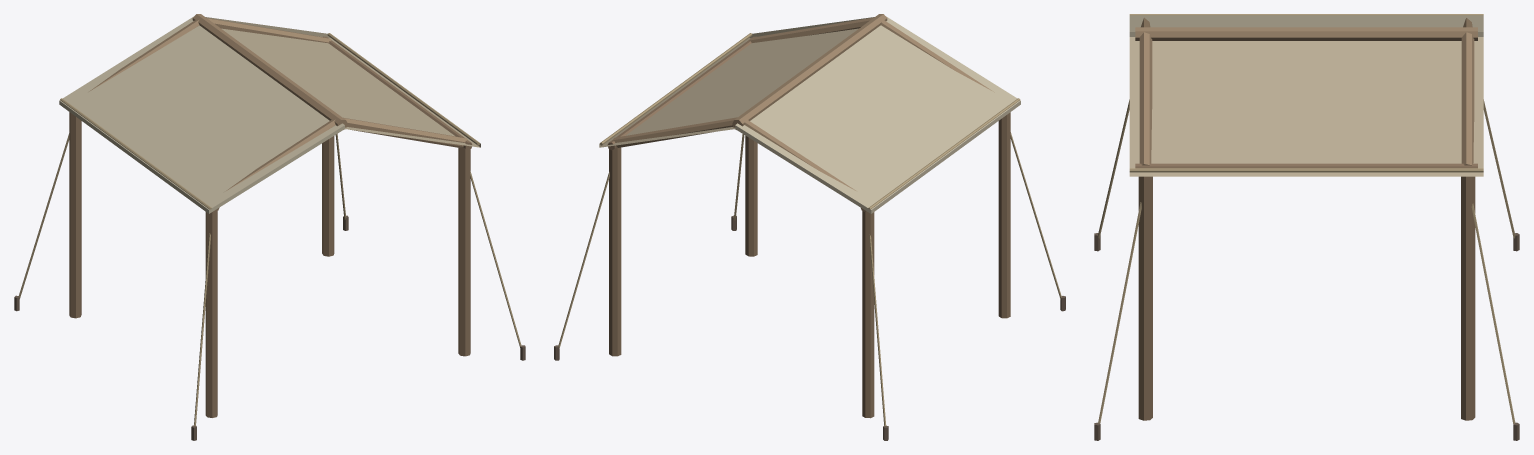
File: portable_canopy.glb
3 renders of one model, left to right at view 1: azimuth 30°, elevation 25°; view 2: azimuth 150°, elevation 25°; view 3: azimuth 270°, elevation 25°, orthographic. The views are drawn at different scales.
Visible parts, largest first — view 1: canvas_panel, canvas_panel_1, upright_3, upright, upright_1, ridge, upright_2, roof_rafter_right_1, roof_rafter_right, eave_1, canvas_hem_1, roof_rafter_left_1 (+3 smaller); view 2: canvas_panel, canvas_panel_1, upright_2, upright_1, upright, ridge, upright_3, roof_rafter_right, roof_rafter_right_1, eave_1, canvas_hem_1, canvas_hem (+3 smaller); view 3: canvas_panel_1, ridge, canvas_panel, upright_3, upright_2, eave_1, roof_rafter_right, canvas_hem_1, roof_rafter_right_1, canvas_hem, guy_rope_3, guy_rope_2 (+2 smaller).
Boxes of the visible parts, <box> form: canvas_panel: <box>59,16,344,213</box>; canvas_panel_1: <box>205,17,480,147</box>; upright_3: <box>458,147,470,356</box>; upright: <box>69,112,81,318</box>; upright_1: <box>205,211,217,417</box>; ridge: <box>192,14,347,129</box>; upright_2: <box>322,136,334,256</box>; roof_rafter_right_1: <box>343,117,467,147</box>; roof_rafter_right: <box>207,18,330,43</box>; eave_1: <box>323,36,472,150</box>; canvas_hem_1: <box>327,33,479,145</box>; roof_rafter_left_1: <box>225,119,335,191</box>; canvas_panel: <box>735,16,1020,213</box>; canvas_panel_1: <box>599,17,874,147</box>; upright_2: <box>609,147,621,356</box>; upright_1: <box>998,112,1010,318</box>; upright: <box>862,211,874,418</box>; ridge: <box>732,14,887,129</box>; upright_3: <box>745,135,757,256</box>; roof_rafter_right: <box>612,117,737,147</box>; roof_rafter_right_1: <box>748,17,873,42</box>; eave_1: <box>607,36,756,150</box>; canvas_hem_1: <box>600,33,752,145</box>; canvas_hem: <box>868,98,1020,209</box>; canvas_panel_1: <box>1129,37,1483,176</box>; ridge: <box>1135,27,1477,40</box>; canvas_panel: <box>1129,15,1483,36</box>; upright_3: <box>1138,176,1152,420</box>; upright_2: <box>1461,176,1475,420</box>; eave_1: <box>1135,163,1477,168</box>; roof_rafter_right: <box>1461,32,1474,165</box>; canvas_hem_1: <box>1129,168,1483,172</box>; roof_rafter_right_1: <box>1139,32,1152,165</box>; canvas_hem: <box>1129,14,1483,15</box>; guy_rope_3: <box>1098,202,1141,423</box>; guy_rope_2: <box>1471,203,1515,423</box>.
Bounding box in the file's own units: 3.17 × 2.43 × 2.96.
